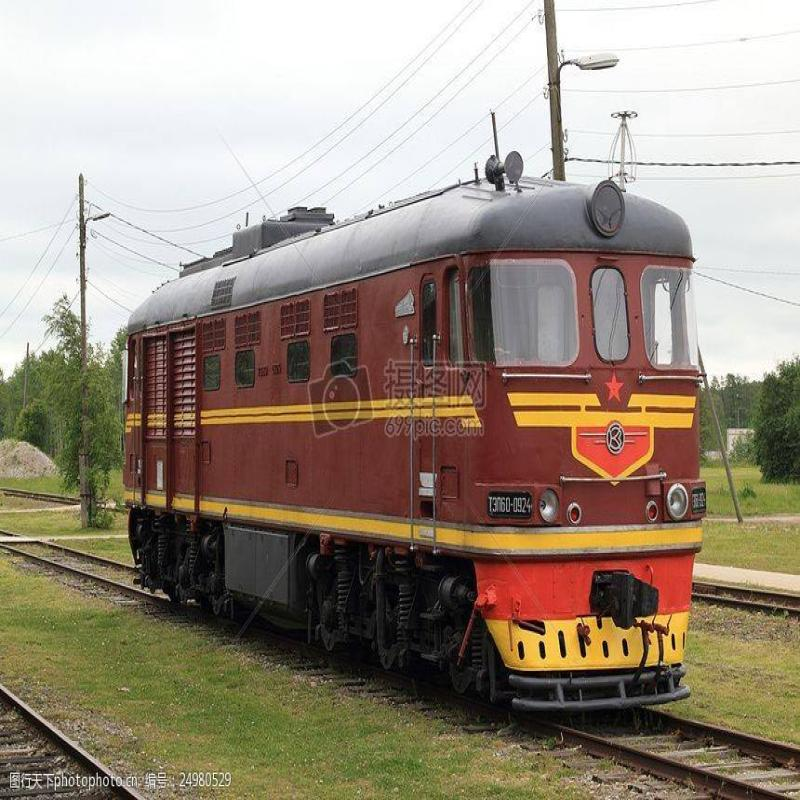train: (116, 189, 714, 734)
